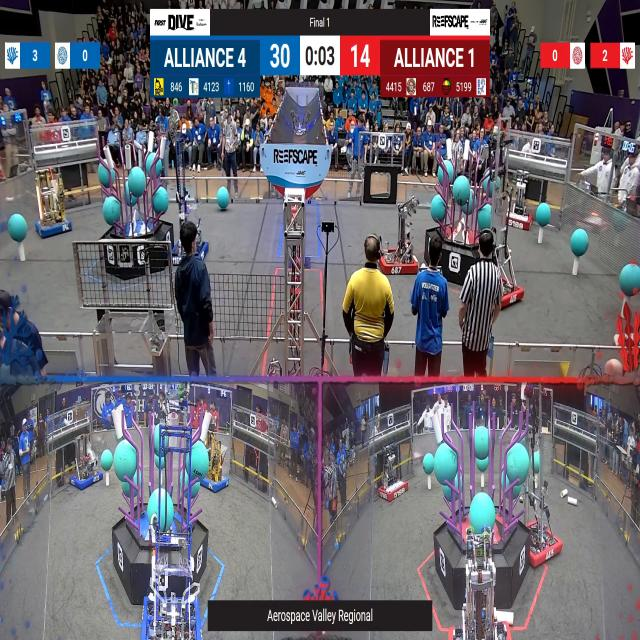scoreboard: (152, 36, 489, 98)
